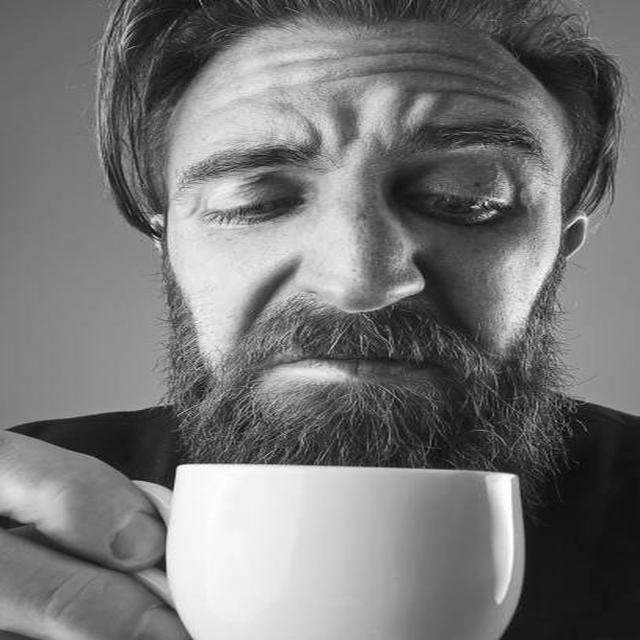Disgust: (167, 16, 562, 492)
